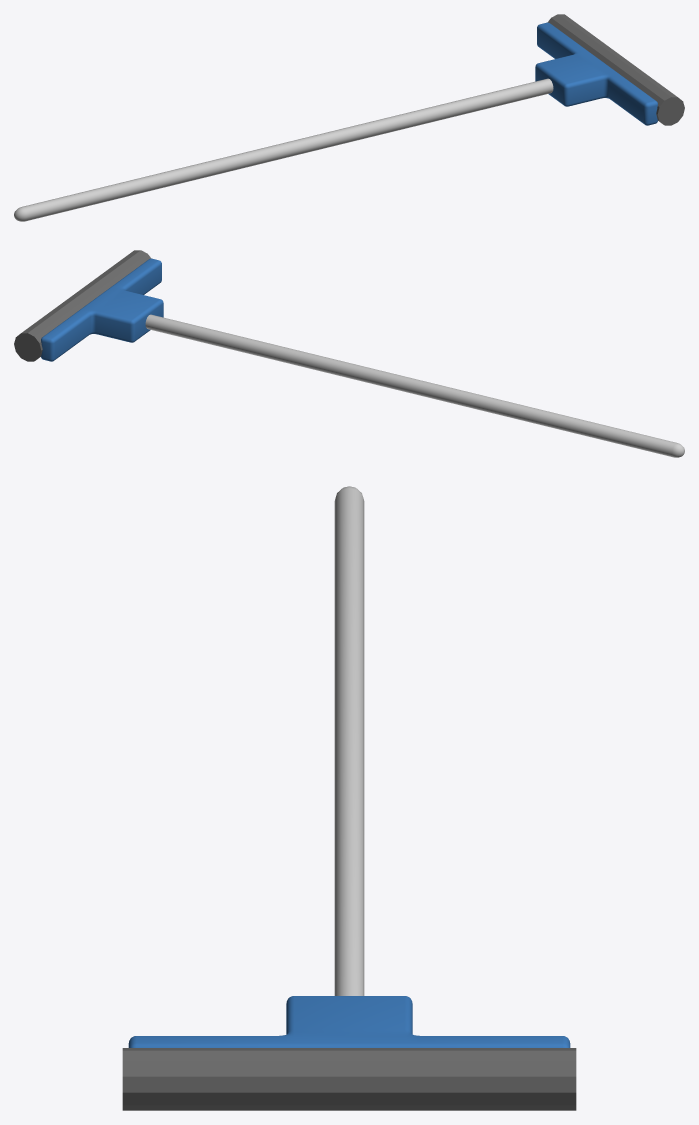
File: Mop.fbx
3 views of the same model, one above another, from view 1: azimuth 30°, elevation 25°; view 2: azimuth 150°, elevation 25°; view 3: azimuth 270°, elevation 25° (orthographic). The views are drawn at different scales.
Visible parts, largest first — view 1: Mop; view 2: Mop; view 3: Mop.
Boxes of the visible parts, left/top/right/bottom form: Mop: left=14, top=14, right=684, bottom=221; Mop: left=14, top=250, right=684, bottom=457; Mop: left=122, top=486, right=576, bottom=1110.
Size of the model in its own units: 1.8 by 0.08 by 0.575.
